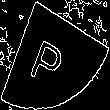P_NE: (34, 23, 76, 87)
